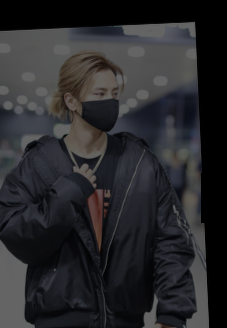with_mask: (77, 85, 121, 133)
